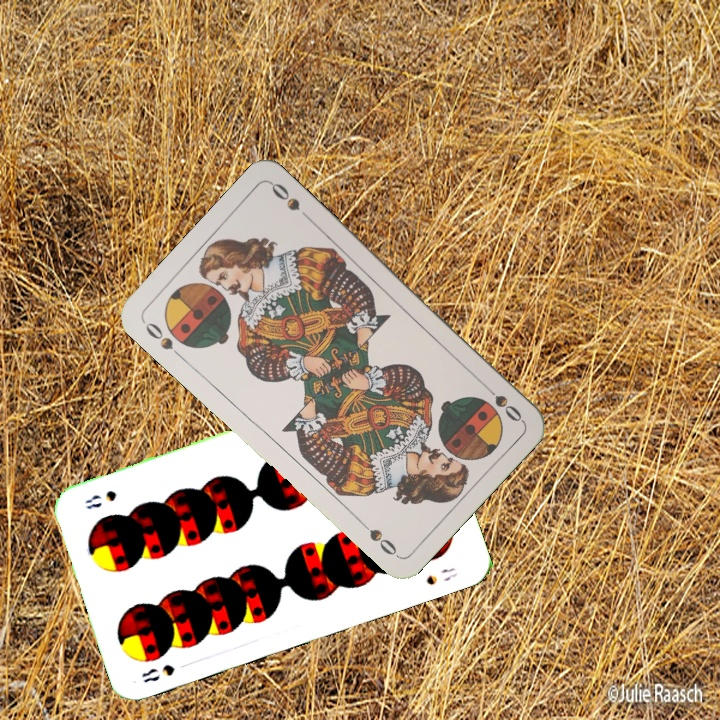S8: (137, 660, 178, 686)
SO: (478, 379, 525, 425), (139, 317, 186, 362)
